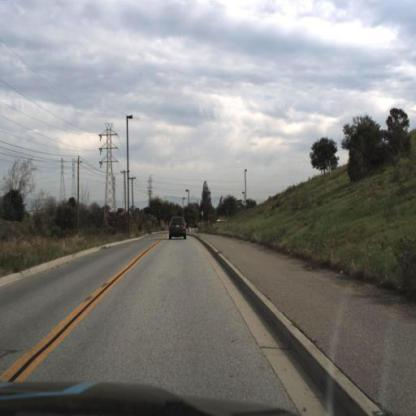car: (167, 214, 188, 241)
